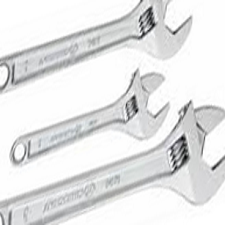Wrench: (9, 110, 225, 224), (14, 1, 199, 79), (3, 79, 187, 156)
